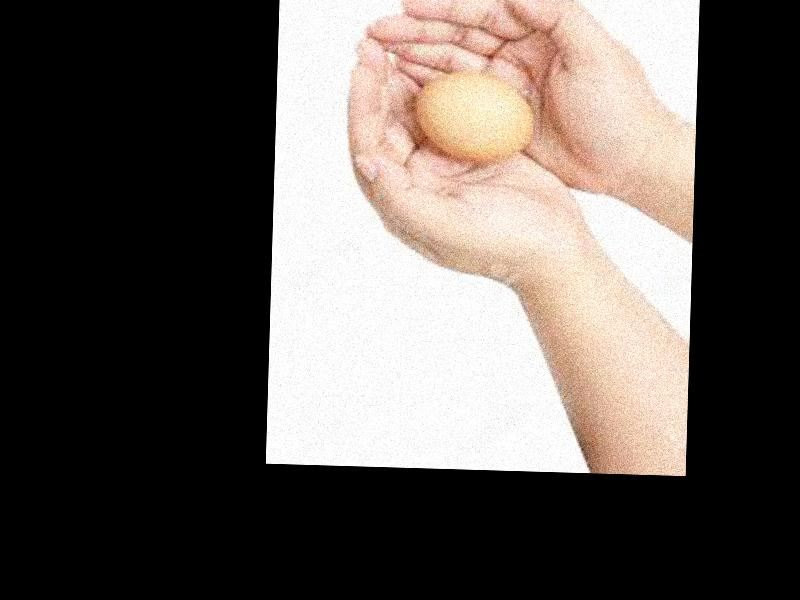Eggs: (417, 73, 532, 164)
